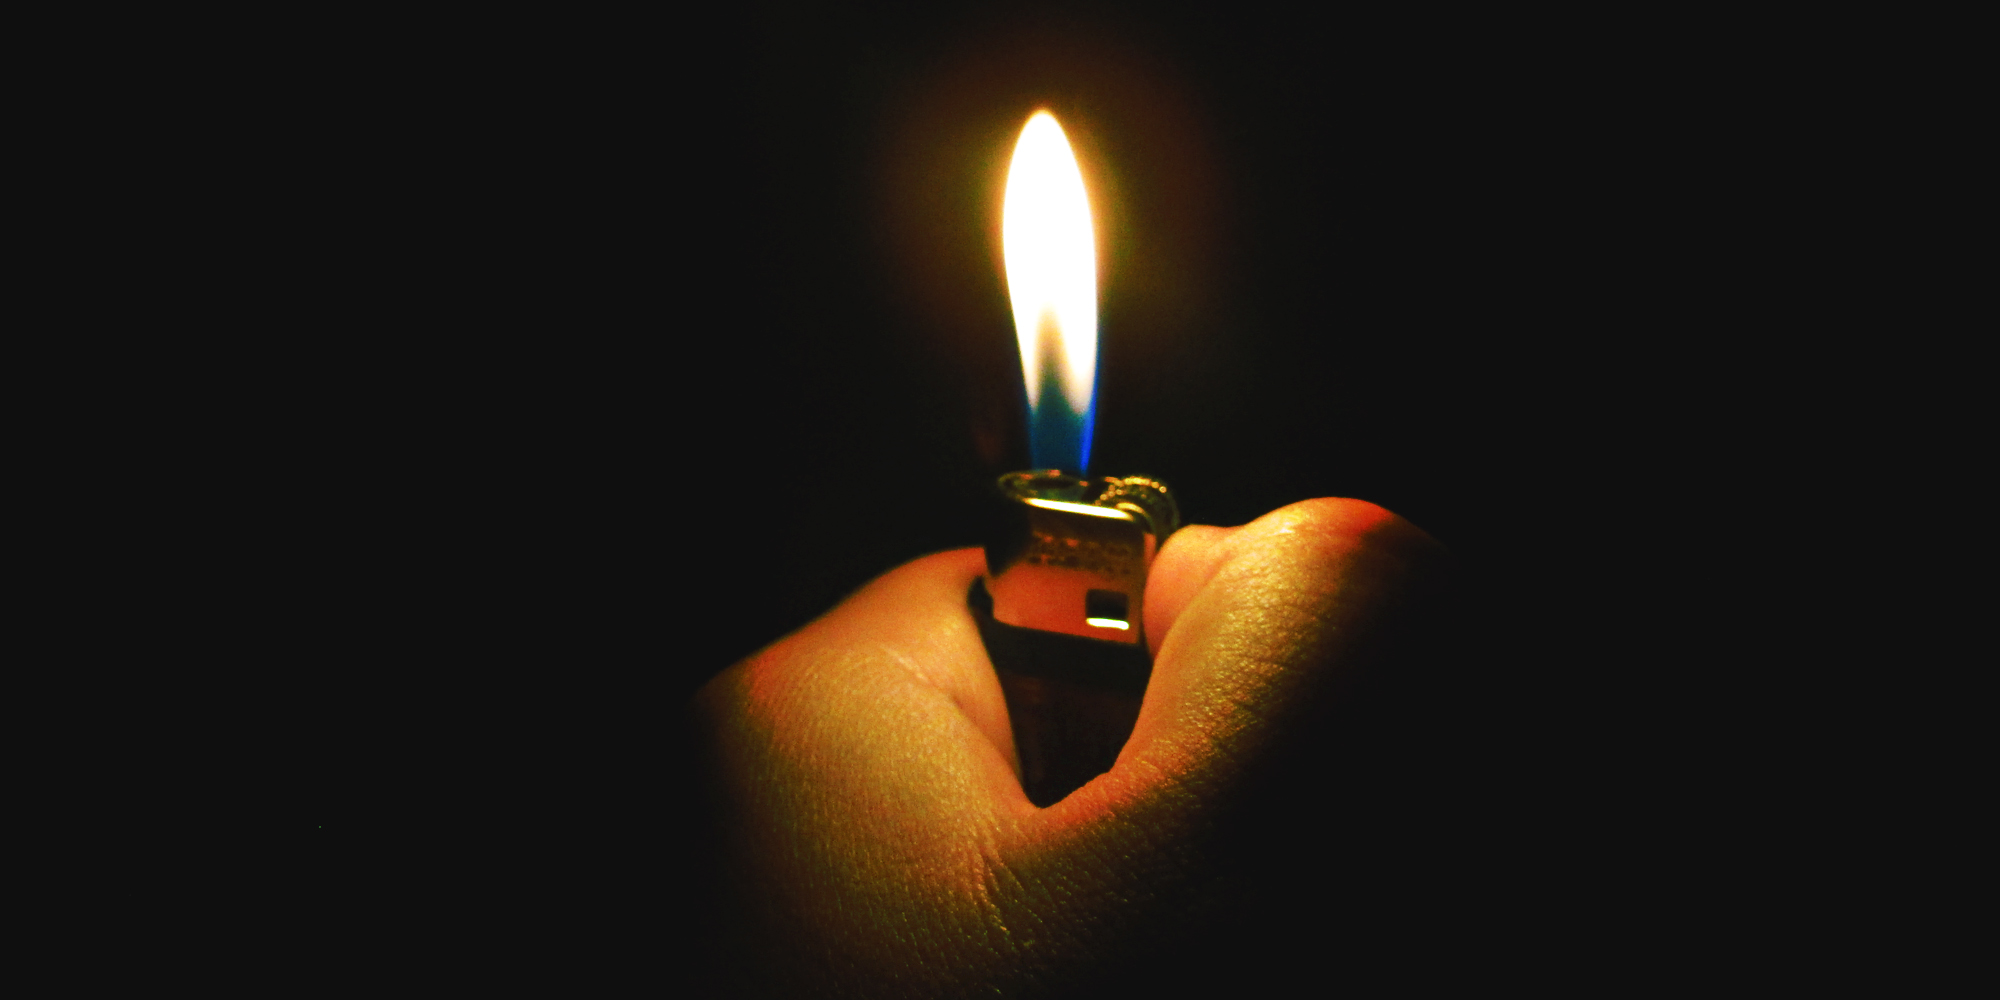fire: (895, 79, 1230, 506)
